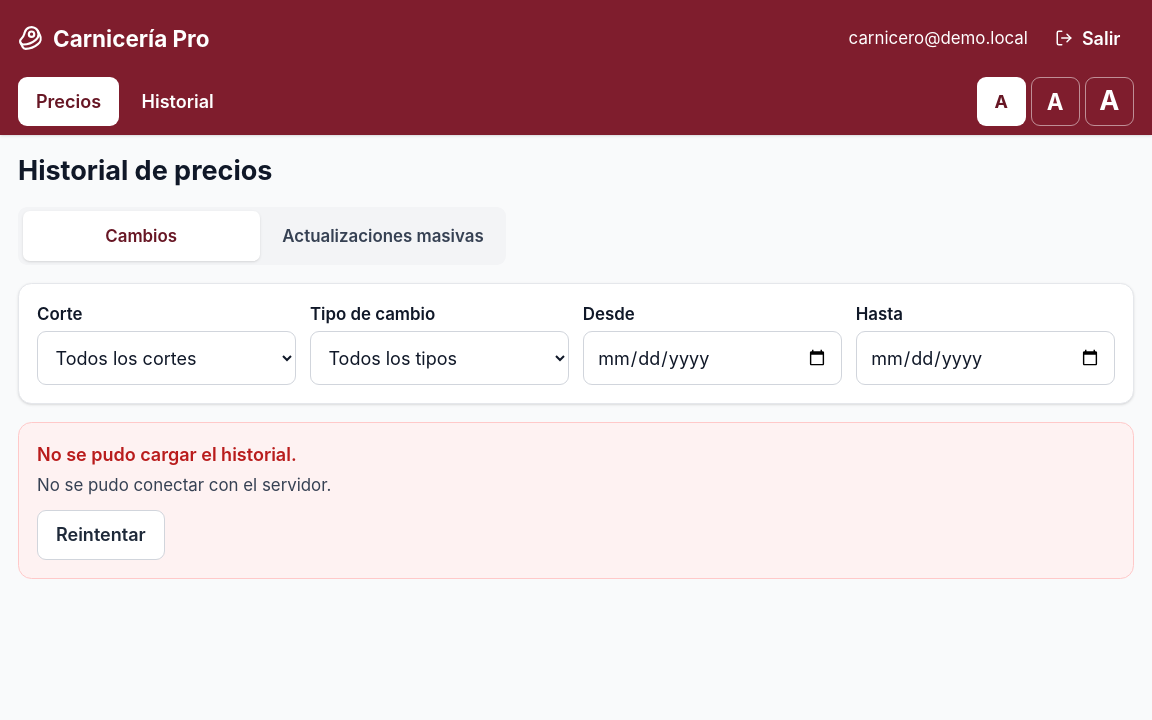
Test: HistoryPage › muestra el error y permite reintentar
Expected: the message shows "No se pudo conectar con el servidor.", x1=37 y1=475 x2=331 y2=495
Click the button "Reintentar": (101, 535) x1=37 y1=510 x2=165 y2=560
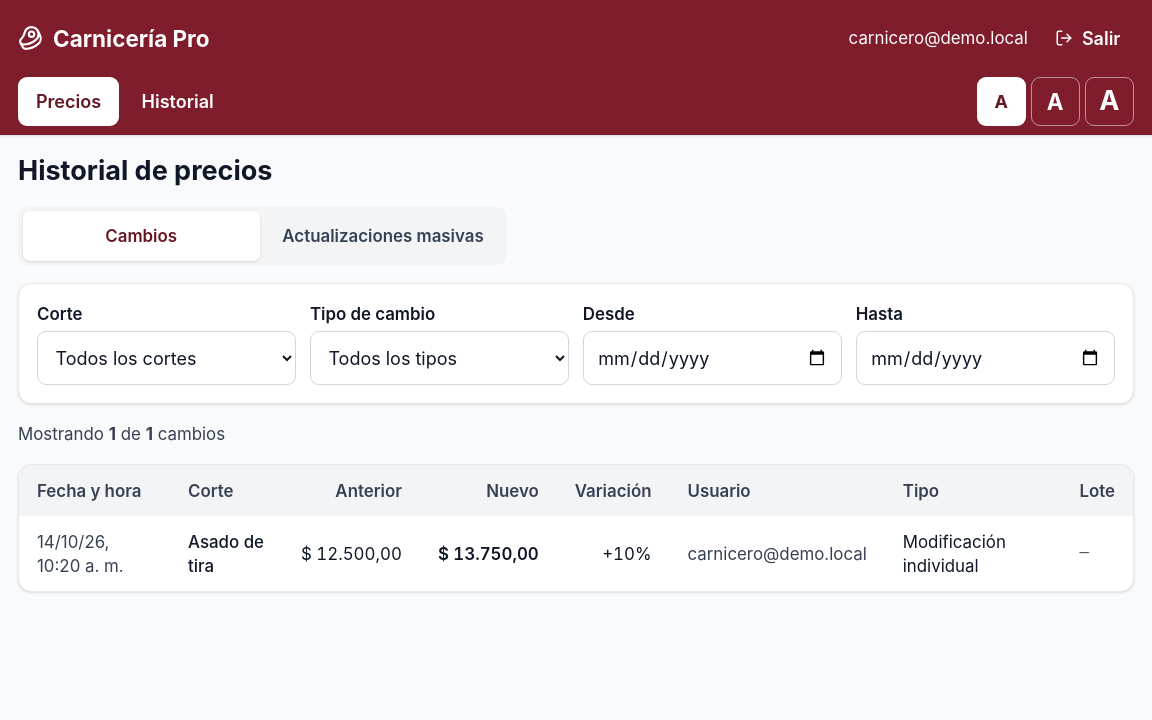
Now the text "Modificación individual" is shown, box x1=885 y1=516 x2=1062 y2=592
